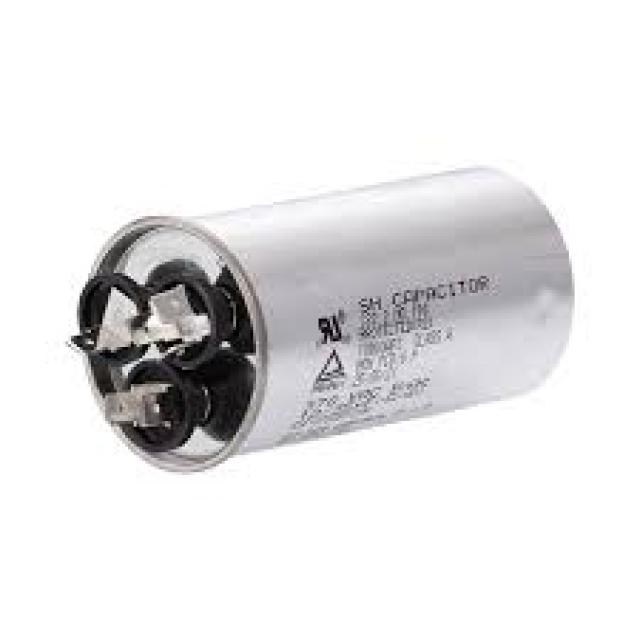Capacitor: (68, 162, 580, 475)
